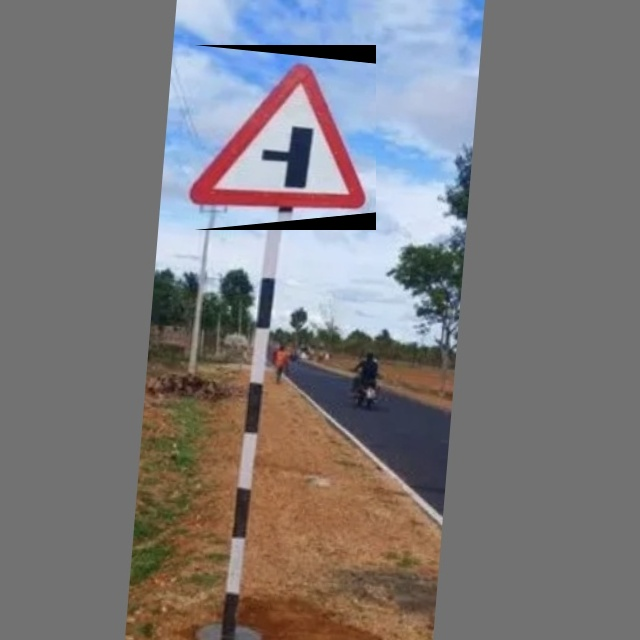Side_Road_Left: (194, 45, 376, 230)
